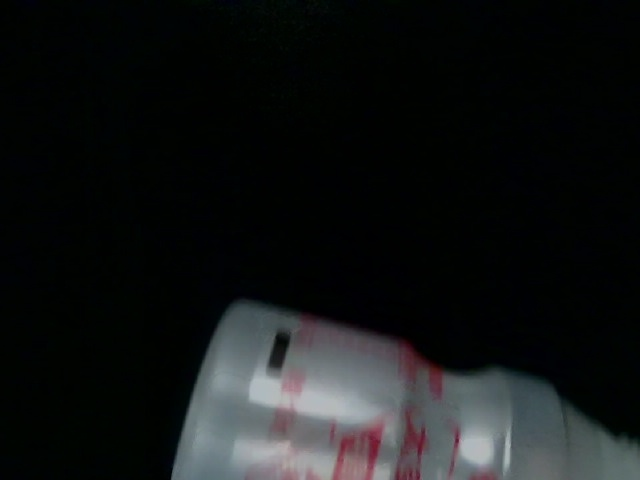CYLJ: (325, 294, 640, 478)
